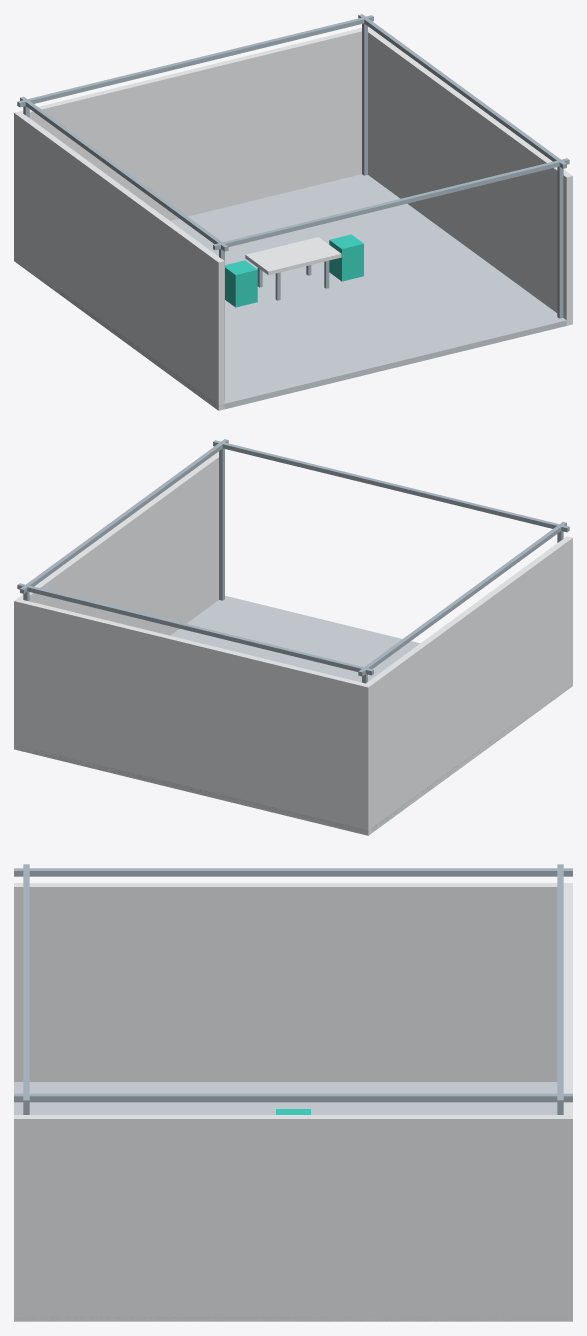
3 renders of one model, top to bottom at view 1: azimuth 30°, elevation 25°; view 2: azimuth 150°, elevation 25°; view 3: azimuth 270°, elevation 25°, orthographic. The views are drawn at different scales.
Parts seen in each view (by area): view 1: Exhibition Booth Concept; view 2: Exhibition Booth Concept; view 3: Exhibition Booth Concept.
Part boxes in pixels (bbox=[...]): Exhibition Booth Concept: bbox=[14, 14, 572, 410]; Exhibition Booth Concept: bbox=[14, 439, 572, 835]; Exhibition Booth Concept: bbox=[14, 864, 572, 1321].
Size of the model in its own units: 8 by 3.49 by 8.
